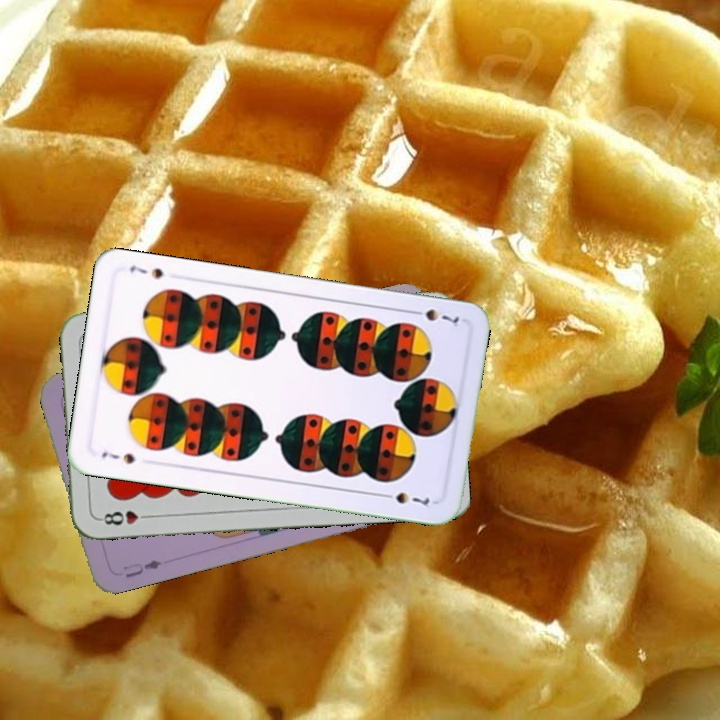EU: (119, 555, 164, 580)
H8: (95, 506, 154, 528)
S7: (406, 304, 462, 330), (98, 447, 138, 467)
